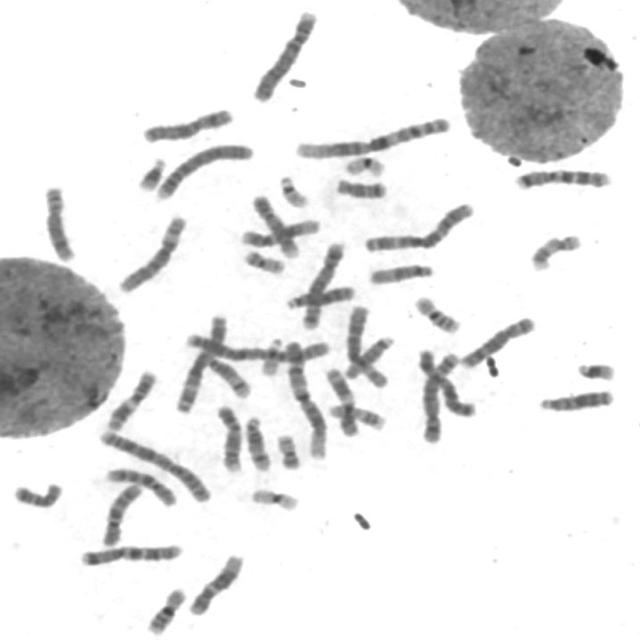A1: (290, 110, 455, 160), (280, 334, 331, 461)
A2: (93, 424, 216, 504), (180, 327, 334, 364)
A3: (359, 196, 479, 254), (170, 308, 231, 415)
B4: (247, 4, 321, 103), (150, 136, 257, 202)
B5: (297, 234, 349, 330), (415, 346, 464, 445)
C10: (100, 461, 180, 508), (97, 477, 146, 547)
C11: (101, 364, 160, 433), (320, 362, 362, 439)
C12: (184, 547, 248, 617), (236, 212, 325, 248)
C6: (113, 209, 191, 294), (341, 298, 392, 390)
C7: (75, 538, 187, 568), (510, 162, 616, 192)
C8: (456, 310, 540, 370), (37, 178, 80, 264)
C9: (247, 188, 304, 260), (211, 398, 247, 474)
D13: (534, 383, 618, 414), (281, 280, 359, 311)
D14: (195, 348, 254, 399), (240, 410, 276, 472)
D15: (339, 330, 399, 380), (364, 257, 438, 286)
E16: (142, 581, 190, 636), (410, 290, 464, 335)
E17: (525, 228, 586, 272), (324, 398, 389, 432)
E18: (7, 476, 67, 510), (331, 172, 392, 200)
F19: (246, 482, 304, 512), (340, 149, 389, 178)
F20: (239, 243, 290, 276), (272, 428, 304, 471)
G21: (133, 151, 170, 192), (572, 356, 620, 382)
G22: (274, 169, 313, 209), (256, 332, 286, 377)
X: (412, 343, 481, 419), (137, 102, 237, 144)
